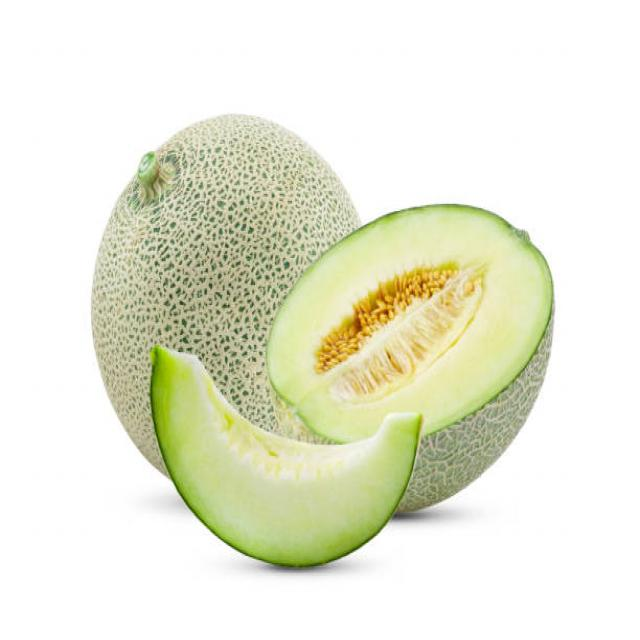Melon: (311, 198, 555, 450), (82, 110, 274, 360), (143, 347, 272, 570)
